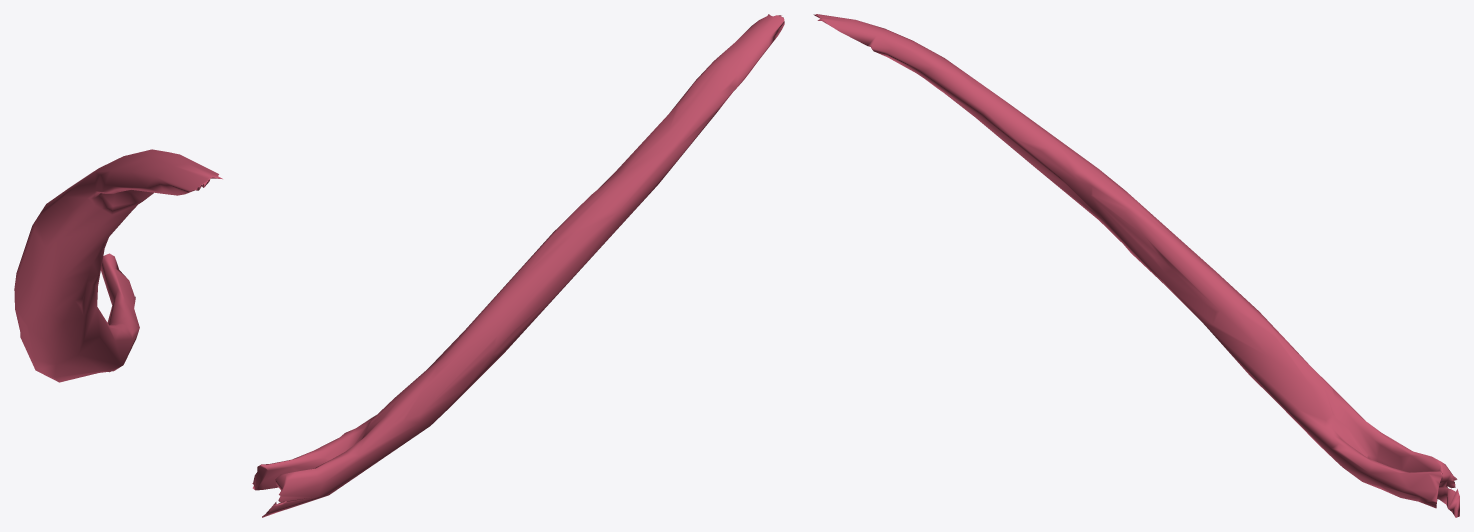
The picture shows the model from 3 angles, left to right: view 1: azimuth 30°, elevation 25°; view 2: azimuth 150°, elevation 25°; view 3: azimuth 270°, elevation 25°; orthographic projection. The views are drawn at different scales.
Parts seen in each view (by area): view 1: 右侧茎突舌骨肌; view 2: 右侧茎突舌骨肌; view 3: 右侧茎突舌骨肌.
Part boxes in pixels (x1,y1,x2,y2): 右侧茎突舌骨肌: (14, 149, 222, 382); 右侧茎突舌骨肌: (252, 14, 784, 517); 右侧茎突舌骨肌: (813, 14, 1459, 517).
Size of the model in its own units: 0.0466 by 0.0601 by 0.0925.
